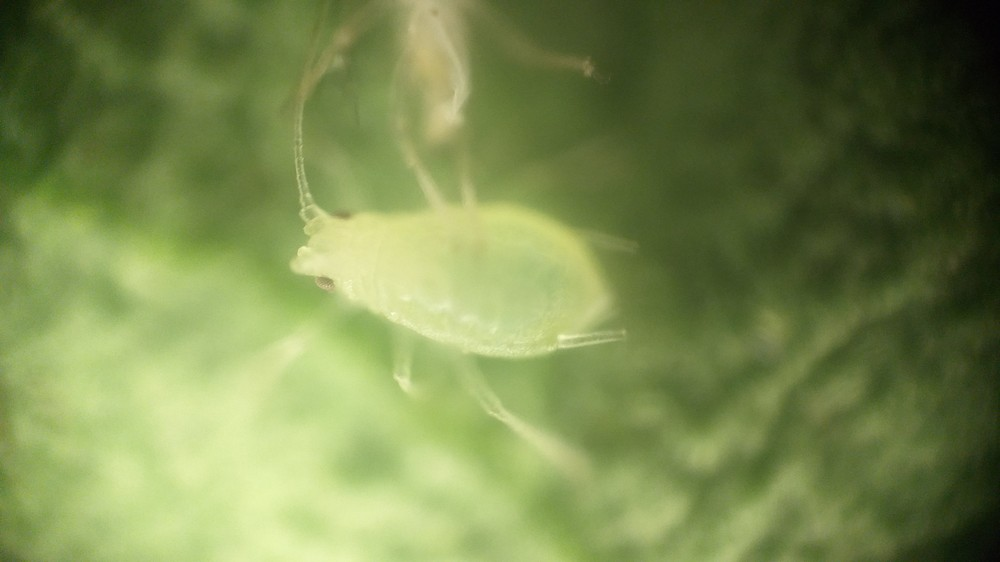Pulgon: (256, 123, 681, 472)
